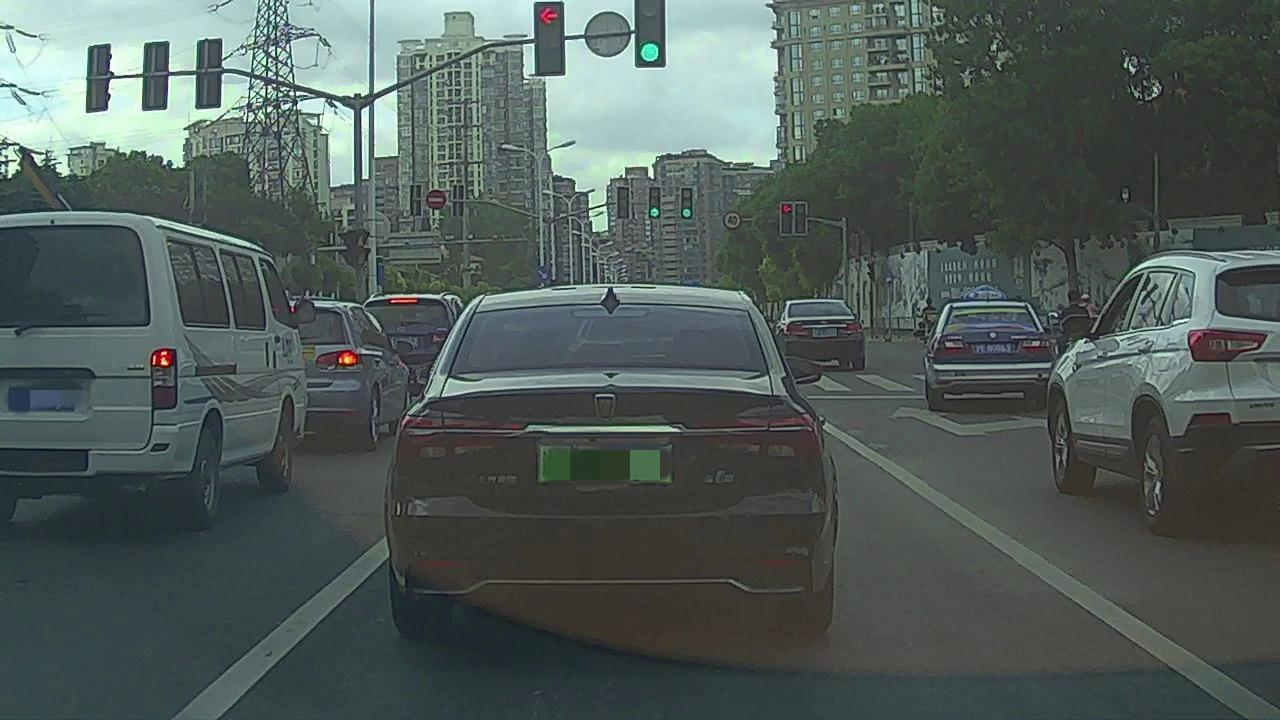traffic_light: (535, 1, 566, 74), (631, 1, 666, 65), (794, 202, 806, 234), (617, 187, 629, 218), (649, 187, 661, 218), (780, 204, 792, 235), (682, 189, 692, 219)
